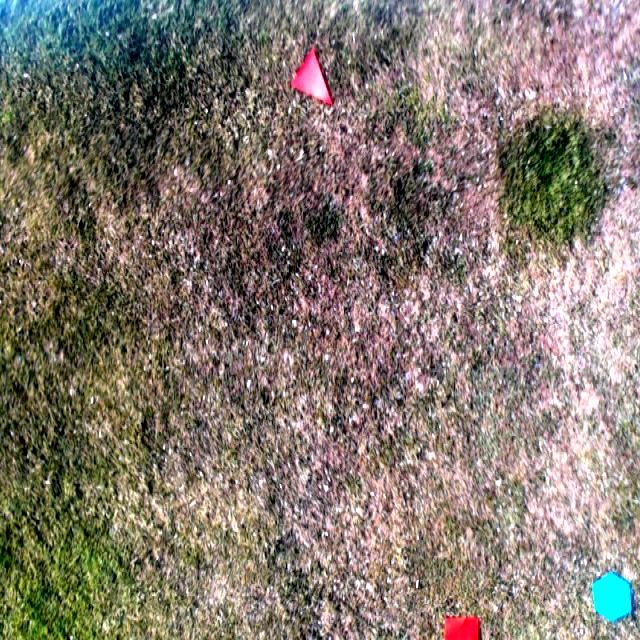blue_hexagon: (592, 570, 634, 624)
red_triangle: (288, 44, 336, 109)
